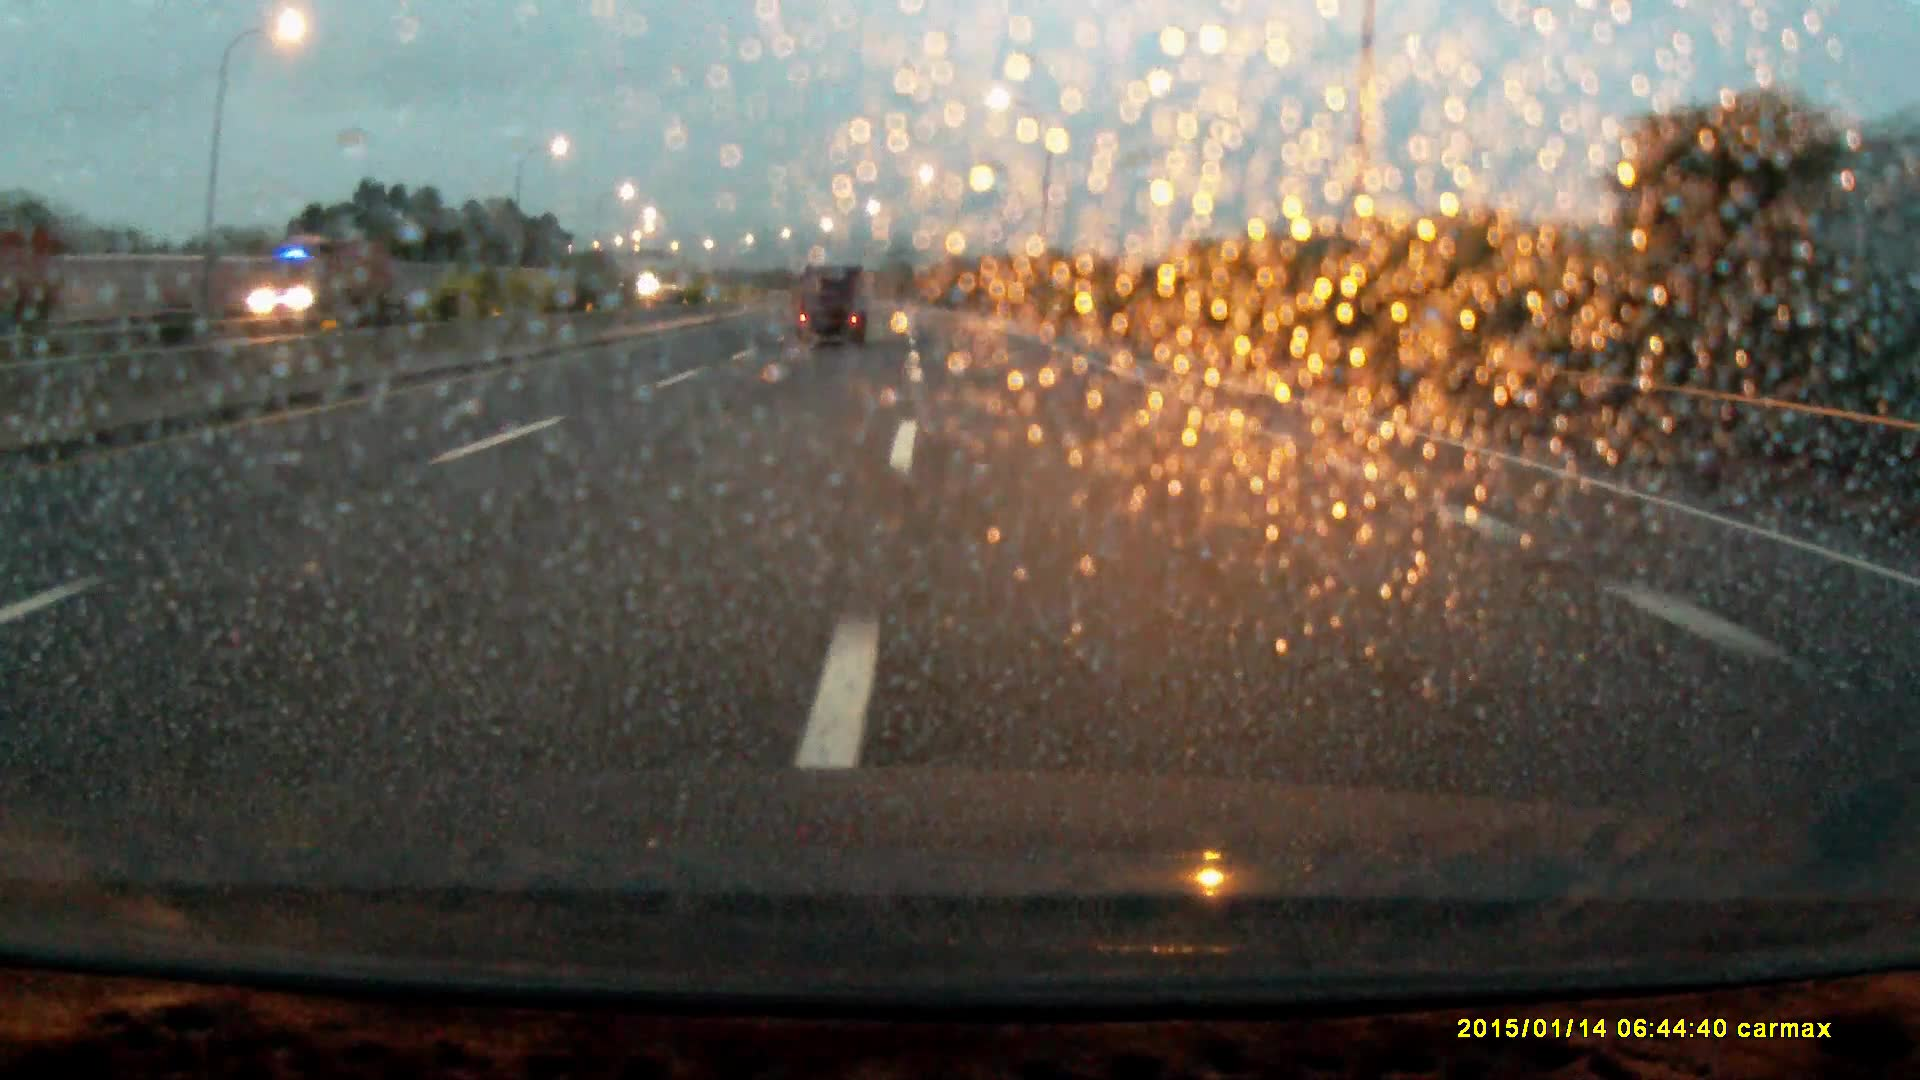vehicle: (245, 237, 392, 322), (790, 272, 869, 356)
